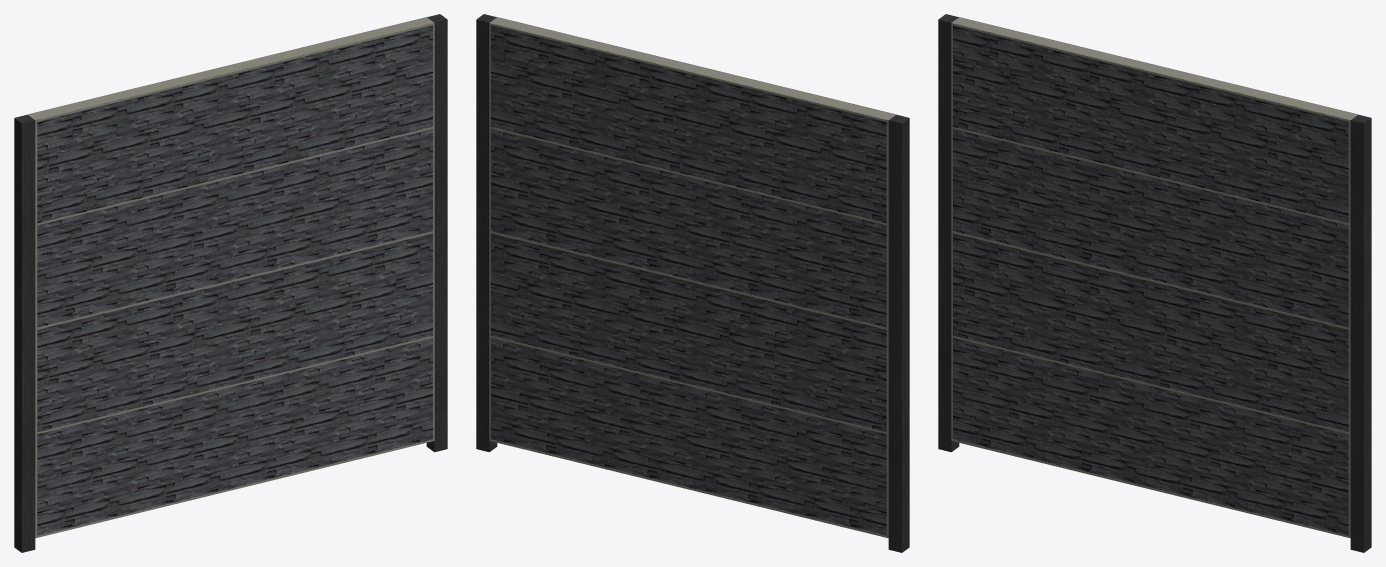
The model's file is ABF1-H1800_randomstoneblack.fbx.
3 views of the same model, side by side, from view 1: azimuth 30°, elevation 25°; view 2: azimuth 150°, elevation 25°; view 3: azimuth 330°, elevation 25° (orthographic).
Parts seen in each view (by area): view 1: 1850-1920-60_randomstone black; view 2: 1850-1920-60_randomstone black; view 3: 1850-1920-60_randomstone black.
Part boxes in pixels (box(x1,y1,x2,y2)): 1850-1920-60_randomstone black: box(14, 14, 447, 552); 1850-1920-60_randomstone black: box(476, 14, 909, 552); 1850-1920-60_randomstone black: box(938, 14, 1371, 552).
Size of the model in its own units: 192 by 185 by 6.4.
Materials: 5 (4 with a texture image).
